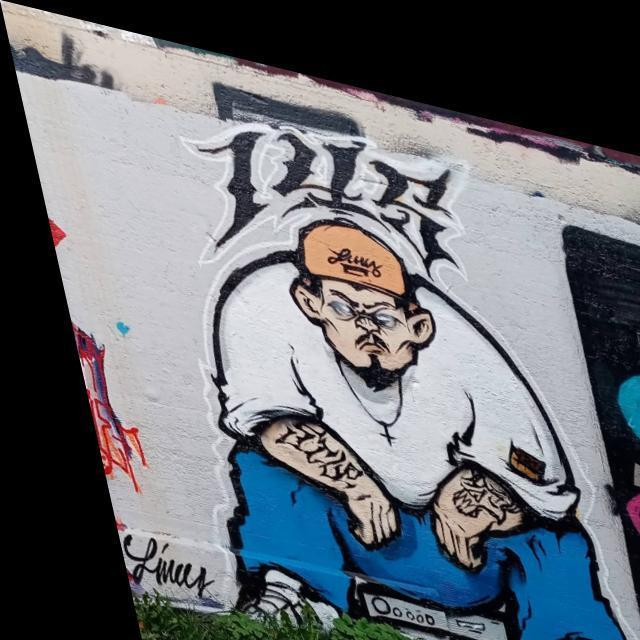-: (124, 101, 639, 640), (94, 530, 198, 608)
